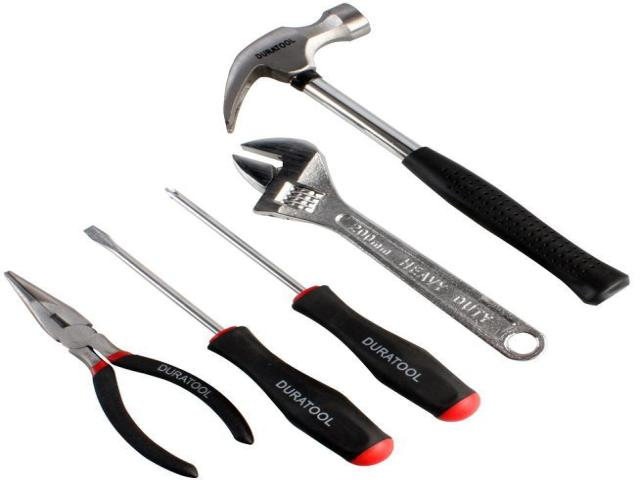Adjustable spanner: (233, 138, 543, 360)
Hammer: (224, 4, 629, 304)
Needle-nose pliers: (6, 272, 252, 477)
Screwdriver: (84, 226, 394, 465), (169, 189, 480, 421)
